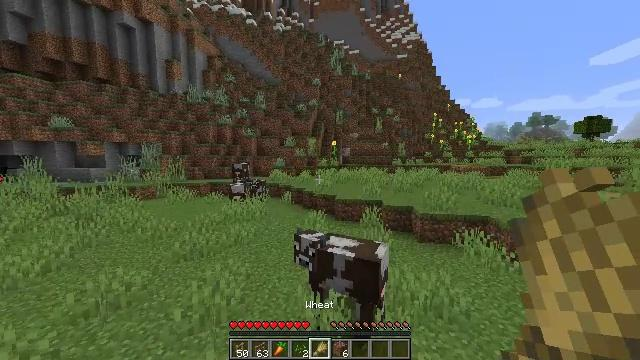cow: (294, 227, 389, 321)
